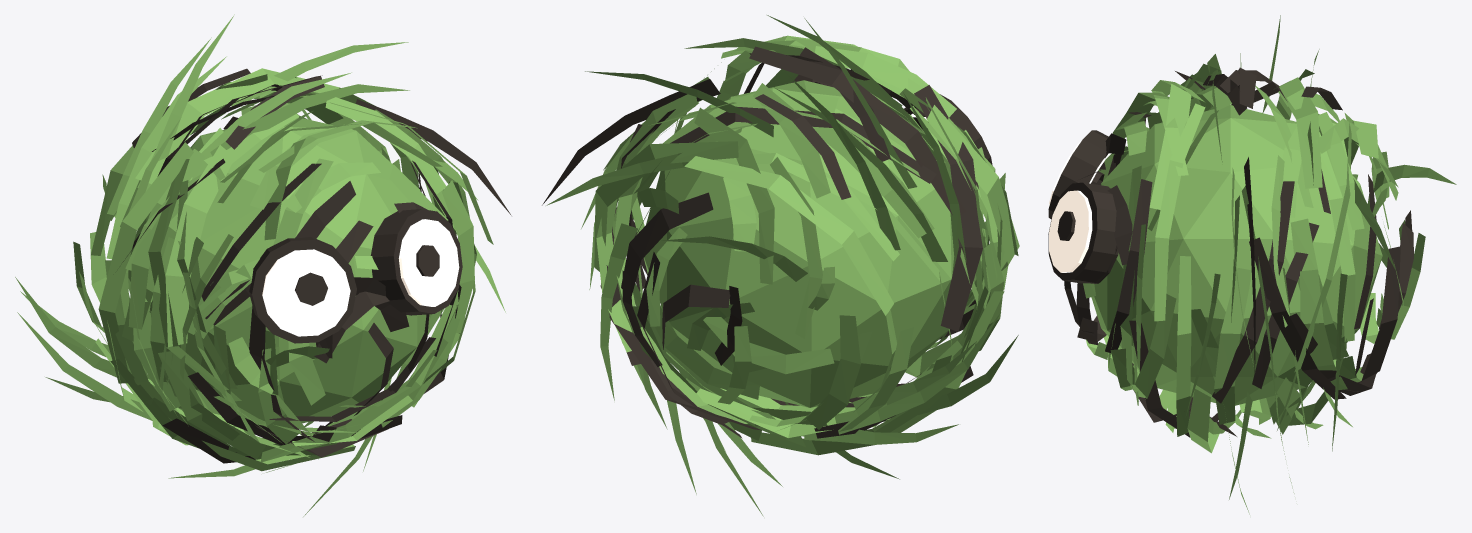
File: bolita-rica-verde.glb
3 views of the same model, side by side, from view 1: azimuth 30°, elevation 25°; view 2: azimuth 150°, elevation 25°; view 3: azimuth 270°, elevation 25° (orthographic). The views are drawn at different scales.
Visible parts, largest first — view 1: bolita-cuerpo; view 2: bolita-cuerpo; view 3: bolita-cuerpo.
Boxes of the visible parts, x1=… form: bolita-cuerpo: x1=15, y1=14, x2=511, y2=516; bolita-cuerpo: x1=542, y1=15, x2=1019, y2=516; bolita-cuerpo: x1=1048, y1=15, x2=1456, y2=514.
Bounding box in the file's own units: 0.4477 × 0.4538 × 0.3495.
